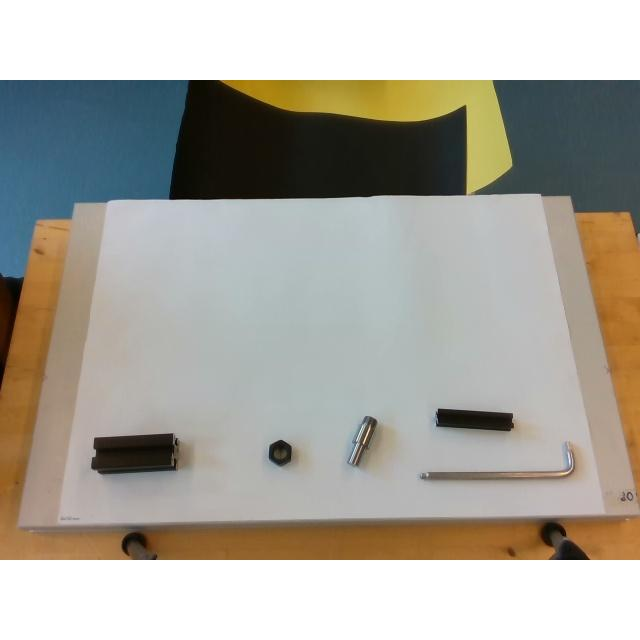AllenKey: (418, 441, 574, 479)
Axis2: (347, 416, 377, 466)
F20_20_B: (435, 408, 513, 430)
M20: (268, 440, 292, 464)
S40_40_B: (91, 433, 177, 473)
